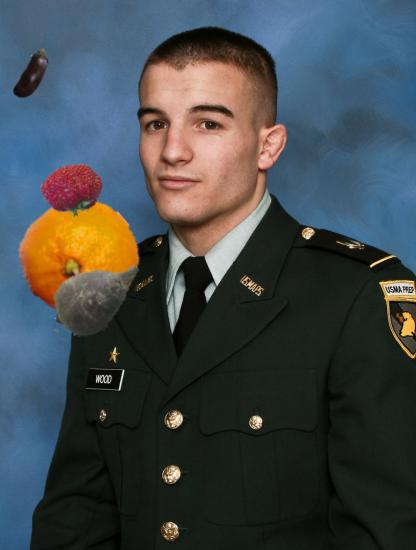Beetroot: (40, 243, 148, 351)
Eggplant: (4, 44, 63, 103)
Lemon: (21, 199, 140, 318)
Strawberry: (41, 159, 105, 223)
